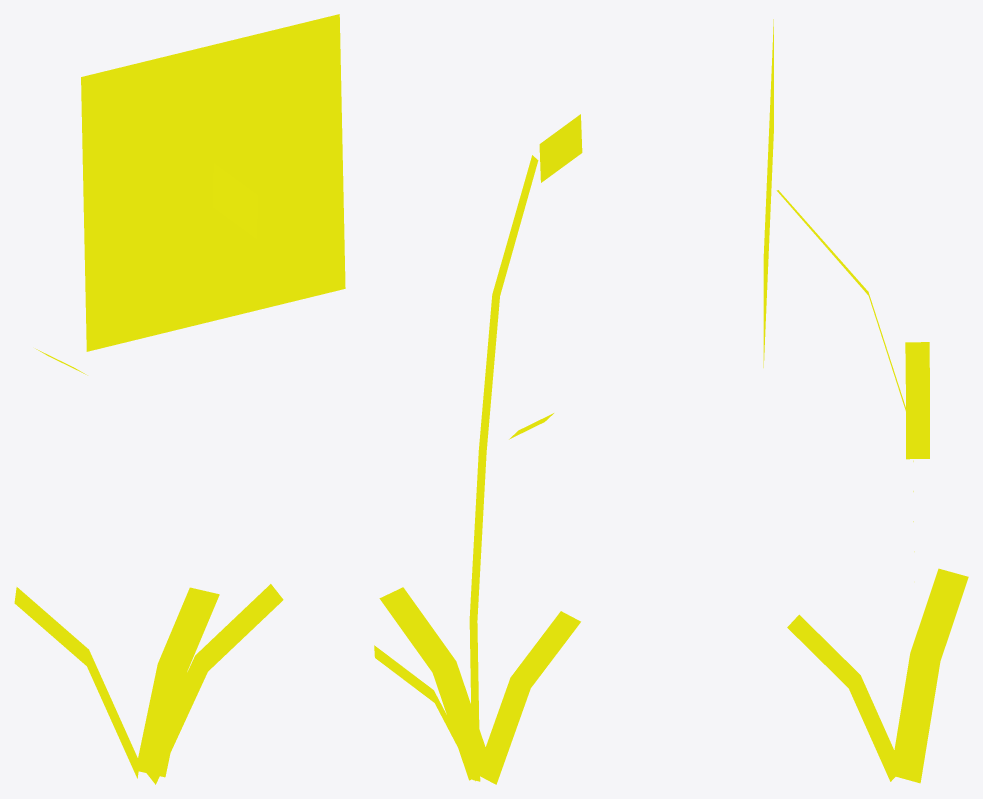
The model's file is Foliage_Flowers_Yellow_Flower_Yellow_Low.glb.
The picture shows the model from 3 angles, left to right: view 1: azimuth 30°, elevation 25°; view 2: azimuth 150°, elevation 25°; view 3: azimuth 270°, elevation 25°; orthographic projection. The views are drawn at different scales.
Visible parts, largest first — view 1: YellowFlower.Low; view 2: YellowFlower.Low; view 3: YellowFlower.Low.
Part boxes in pixels (x1,y1,x2,y2): YellowFlower.Low: (14,14,345,784); YellowFlower.Low: (374,114,582,784); YellowFlower.Low: (763,19,968,783).
Bounding box in the file's own units: 0.0691 × 0.1986 × 0.0713.
Materials: 1 (1 with a texture image).
